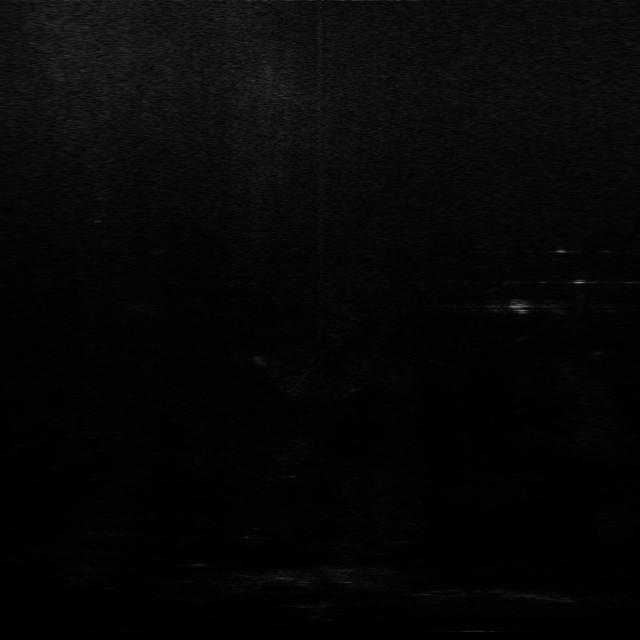rov: (506, 299, 534, 316)
